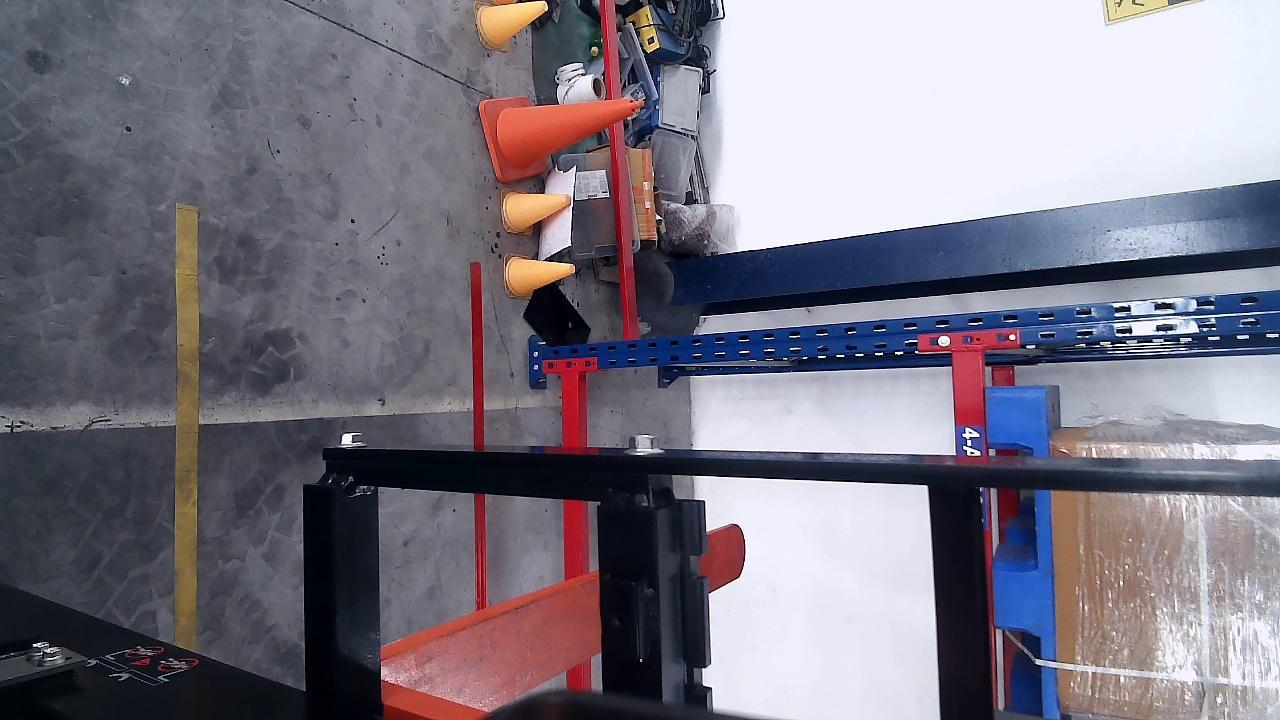h_rack: (563, 372, 586, 687)
red_line: (468, 260, 487, 607)
small_pallet: (990, 390, 1049, 719)
yellow_line: (174, 205, 202, 654)
